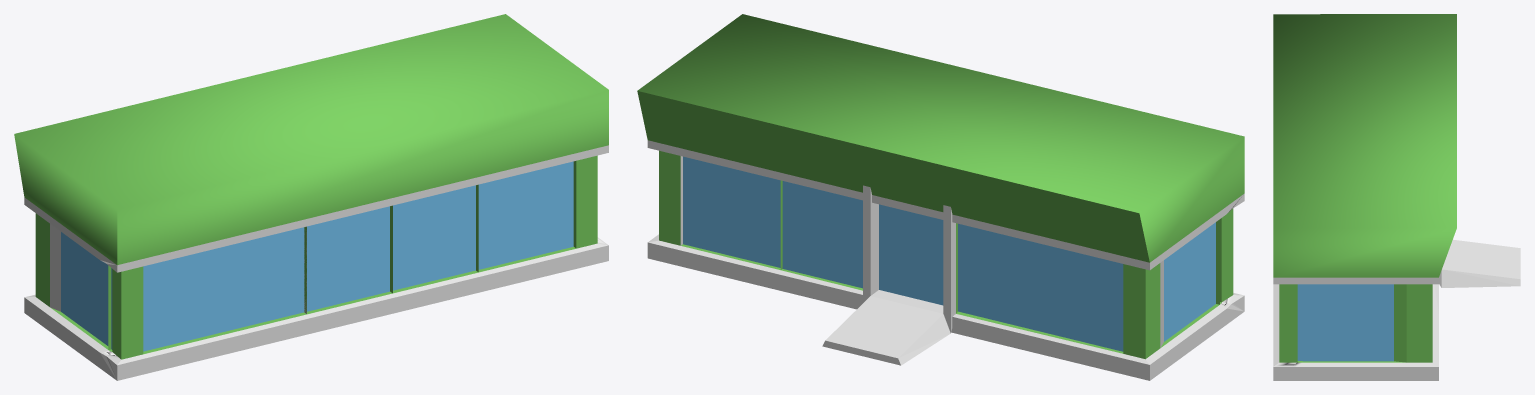
The model's file is Shop6x2x2Green.fbx.
The picture shows the model from 3 angles, left to right: view 1: azimuth 30°, elevation 25°; view 2: azimuth 150°, elevation 25°; view 3: azimuth 270°, elevation 25°; orthographic projection. The views are drawn at different scales.
Visible parts, largest first — view 1: Shop.002; view 2: Shop.002; view 3: Shop.002.
Part boxes in pixels (x1,y1,x2,y2): Shop.002: [14, 14, 608, 380]; Shop.002: [637, 14, 1244, 380]; Shop.002: [1273, 14, 1520, 380].
Size of the model in its own units: 5.94 by 1.98 by 2.91.
Materials: 1 (1 with a texture image).
